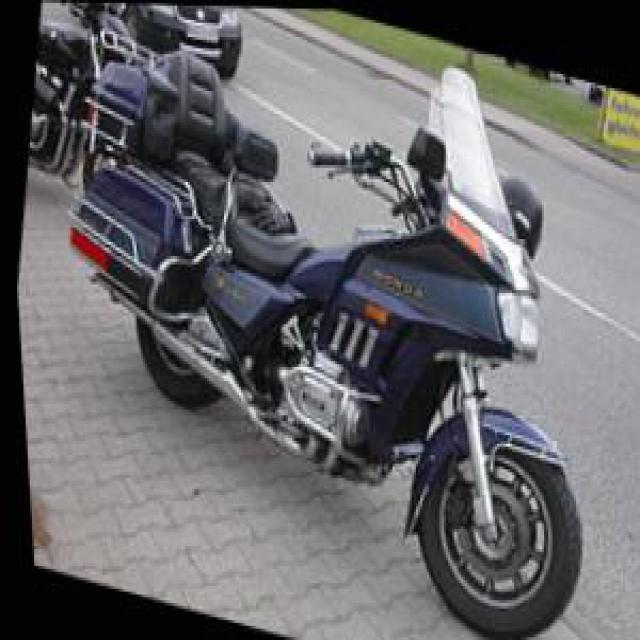Gold Wing: (15, 0, 638, 637)
